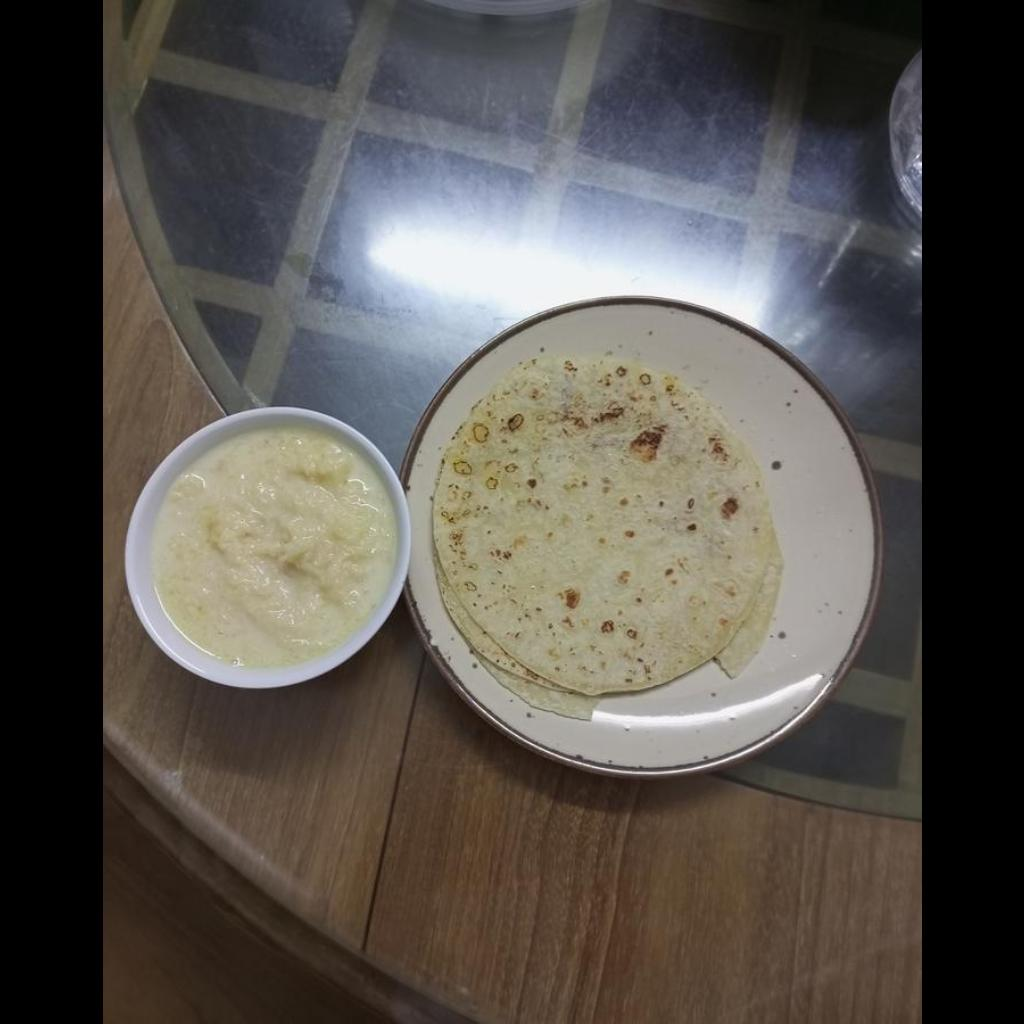payesh: (148, 435, 388, 665)
ruti: (434, 352, 783, 715)
